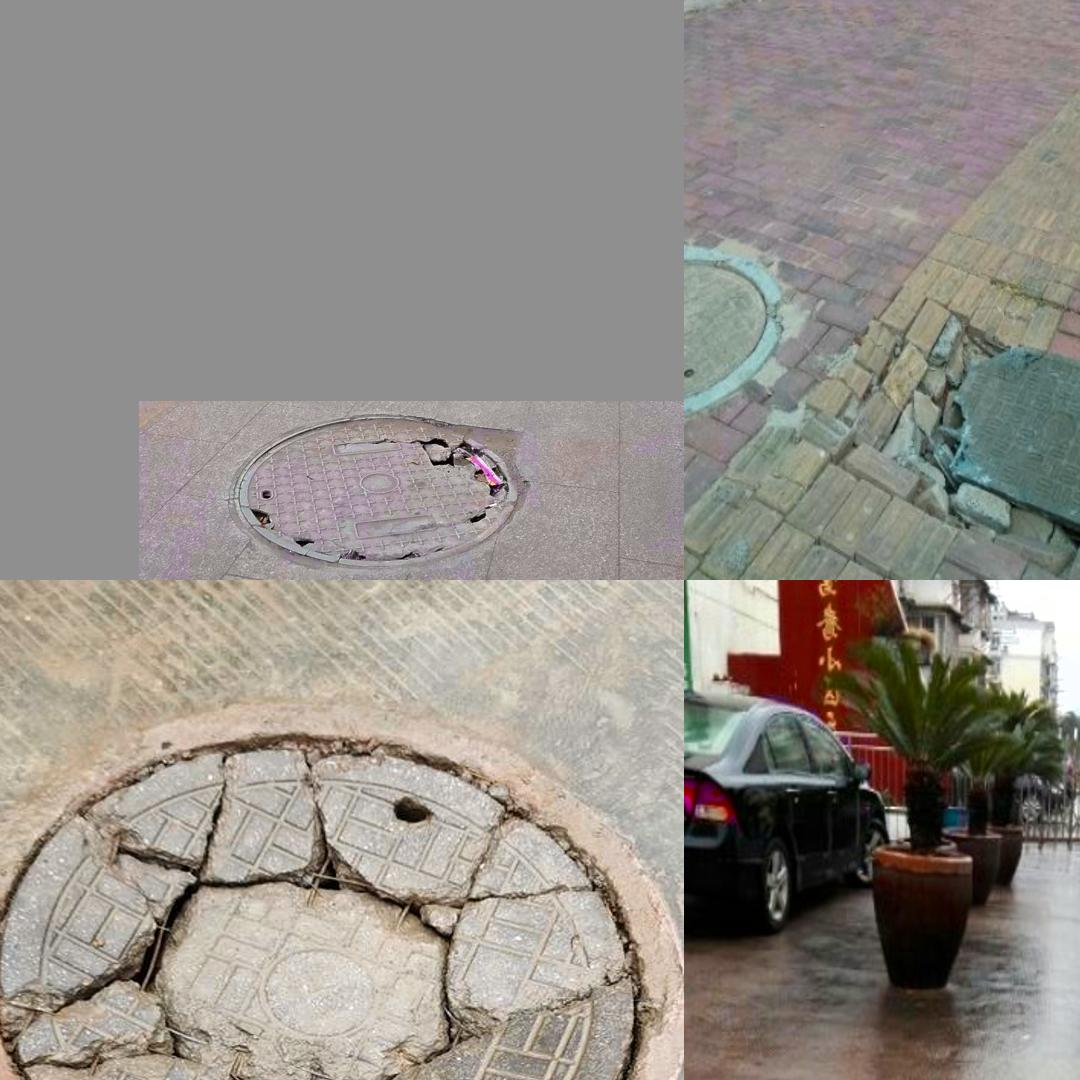broke: (0, 699, 670, 1080), (890, 317, 1080, 580), (233, 415, 521, 567)
good: (685, 243, 778, 407)
